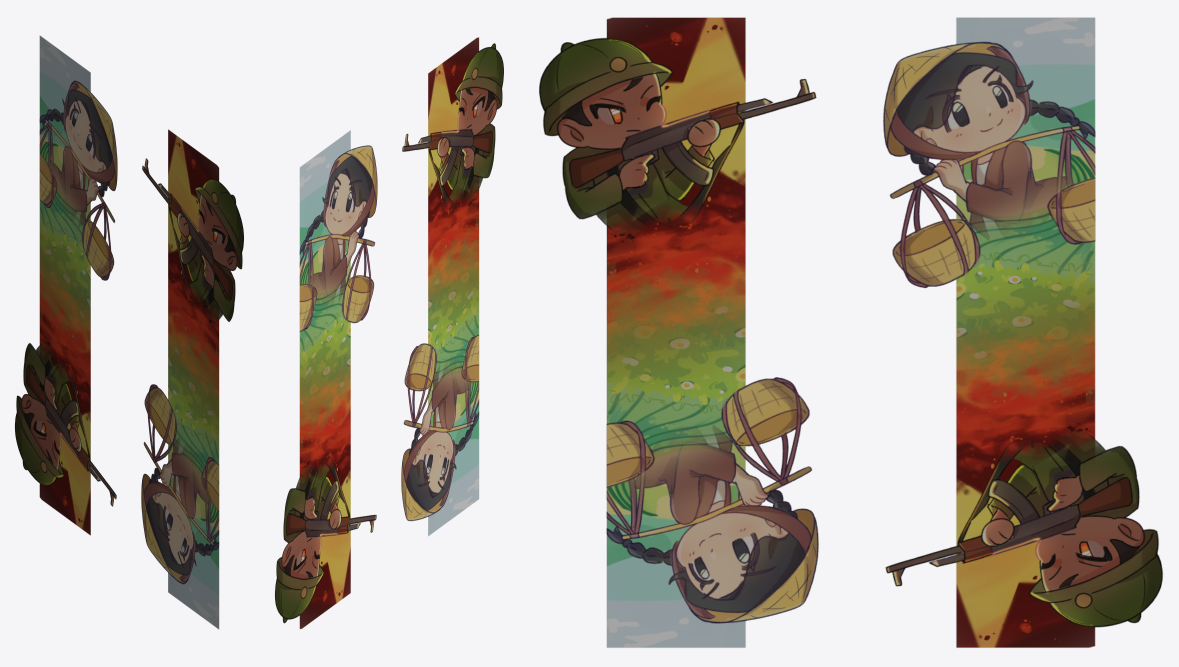
3 views of the same model, side by side, from view 1: azimuth 30°, elevation 25°; view 2: azimuth 150°, elevation 25°; view 3: azimuth 270°, elevation 25° (orthographic). The views are drawn at different scales.
Visible parts, largest first — view 1: 12, 13; view 2: 12, 13; view 3: 12, 13.
Part boxes in pixels (left/top/right/bottom): 12: left=141, top=129, right=243, bottom=629; 13: left=15, top=35, right=117, bottom=535; 12: left=401, top=37, right=503, bottom=536; 13: left=275, top=130, right=377, bottom=629; 12: left=539, top=17, right=818, bottom=647; 13: left=883, top=17, right=1162, bottom=647.
Bounding box in the file's own units: 0 × 1 × 0.894.
Materials: 2 (2 with a texture image).
